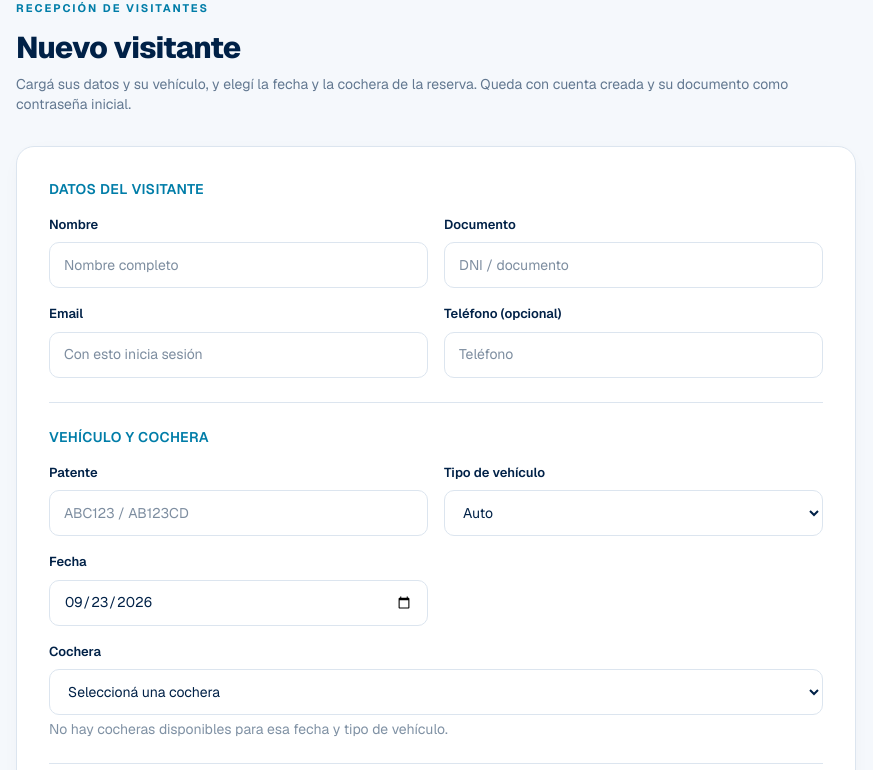
Test: VisitantesContent (alta de visitante con reserva) › rechaza una patente con formato invalido
Type "Juan Perez" into the field with placeholder "Nombre completo" at (238, 265), box 49,242 -> 428,288
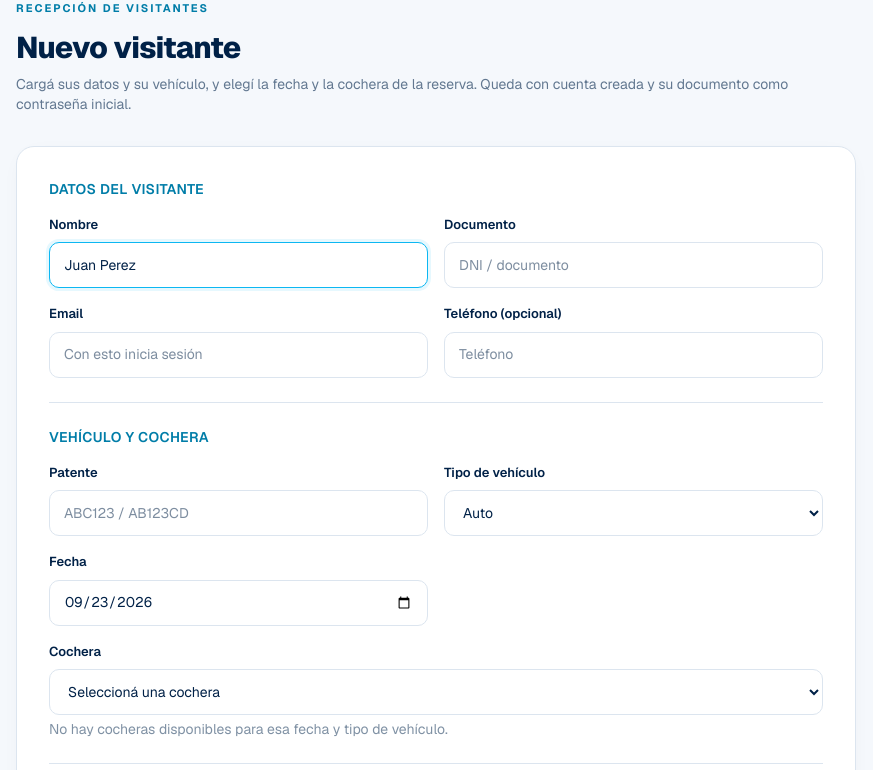
Type "30111222" into the field with placeholder "DNI / documento" at (634, 265), box 444,242 -> 823,288
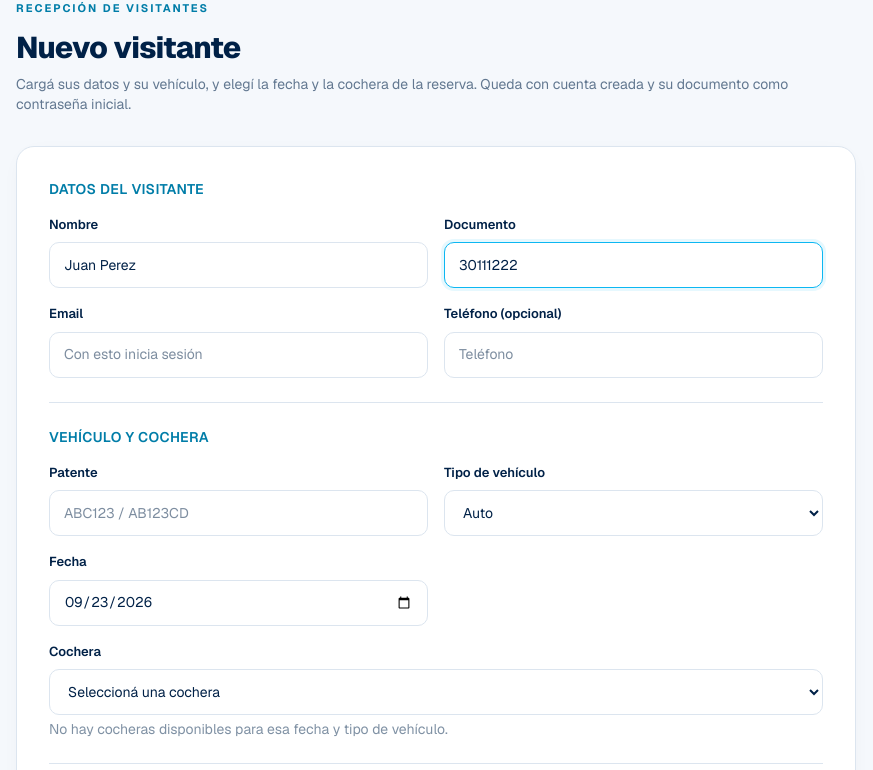
Type "juan@test.com" into the field with placeholder "Con esto inicia sesión" at (238, 355), box 49,332 -> 428,378
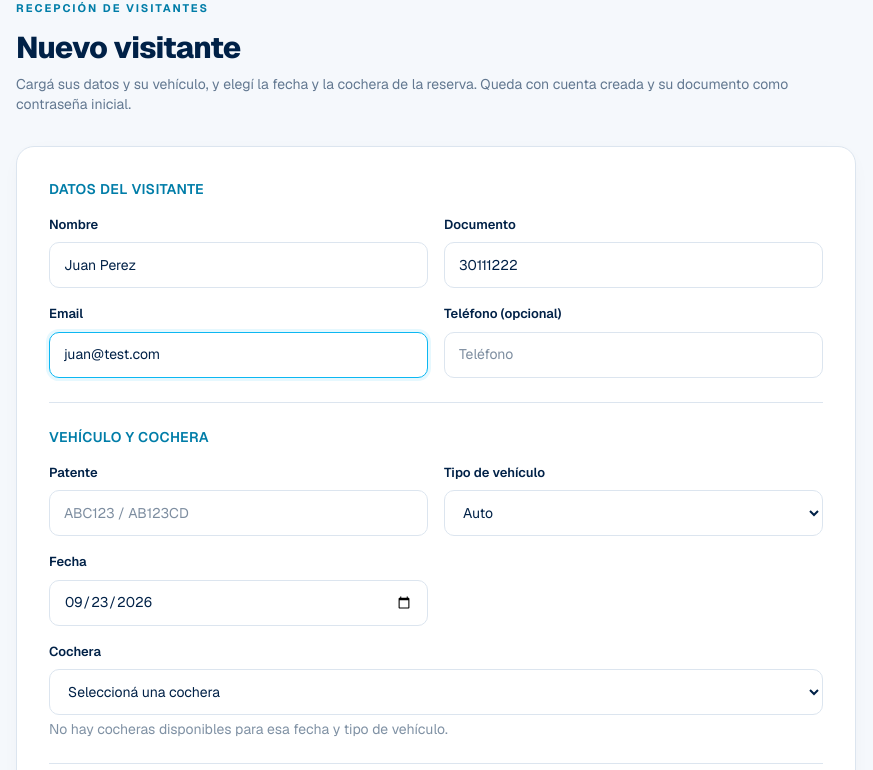
Type "123" into the field with placeholder "ABC123 / AB123CD" at (238, 513), box 49,490 -> 428,536
(page scrolled)
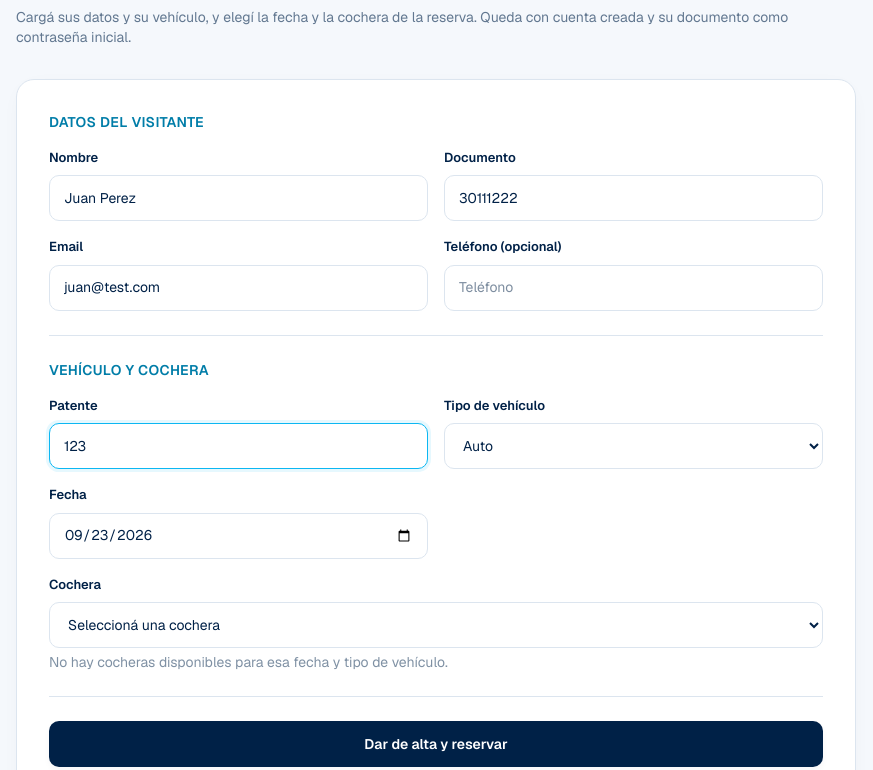
Click the button "Dar de alta y reservar" at (436, 744), box 49,721 -> 823,767
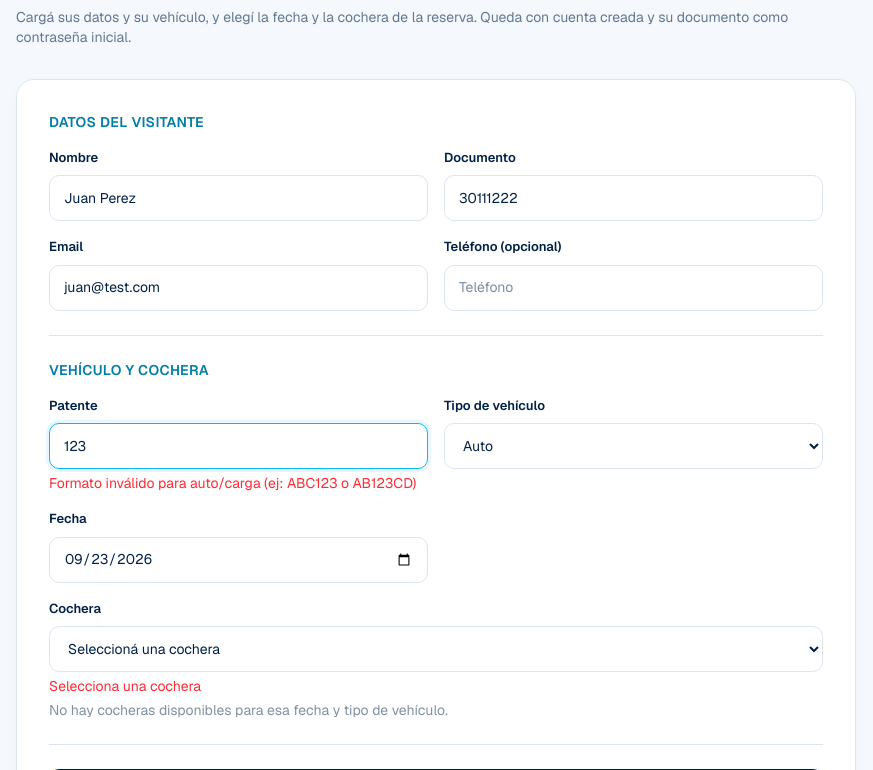
Expected: the text "Formato inválido para auto/carga (ej: ABC123 o AB123CD)" is shown, 49,473 -> 428,493
